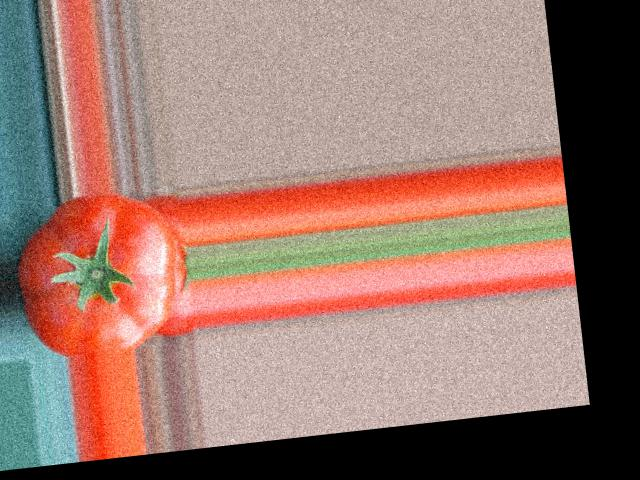tomato: (10, 184, 186, 361)
